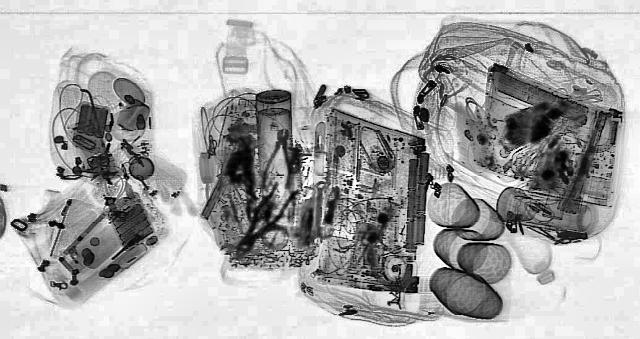Pliers: (220, 180, 304, 262), (260, 128, 298, 188)
